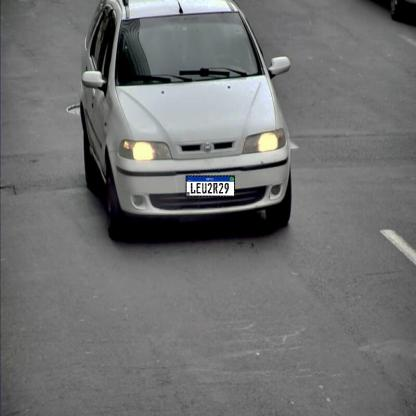PlacaM: (186, 175, 235, 197)
